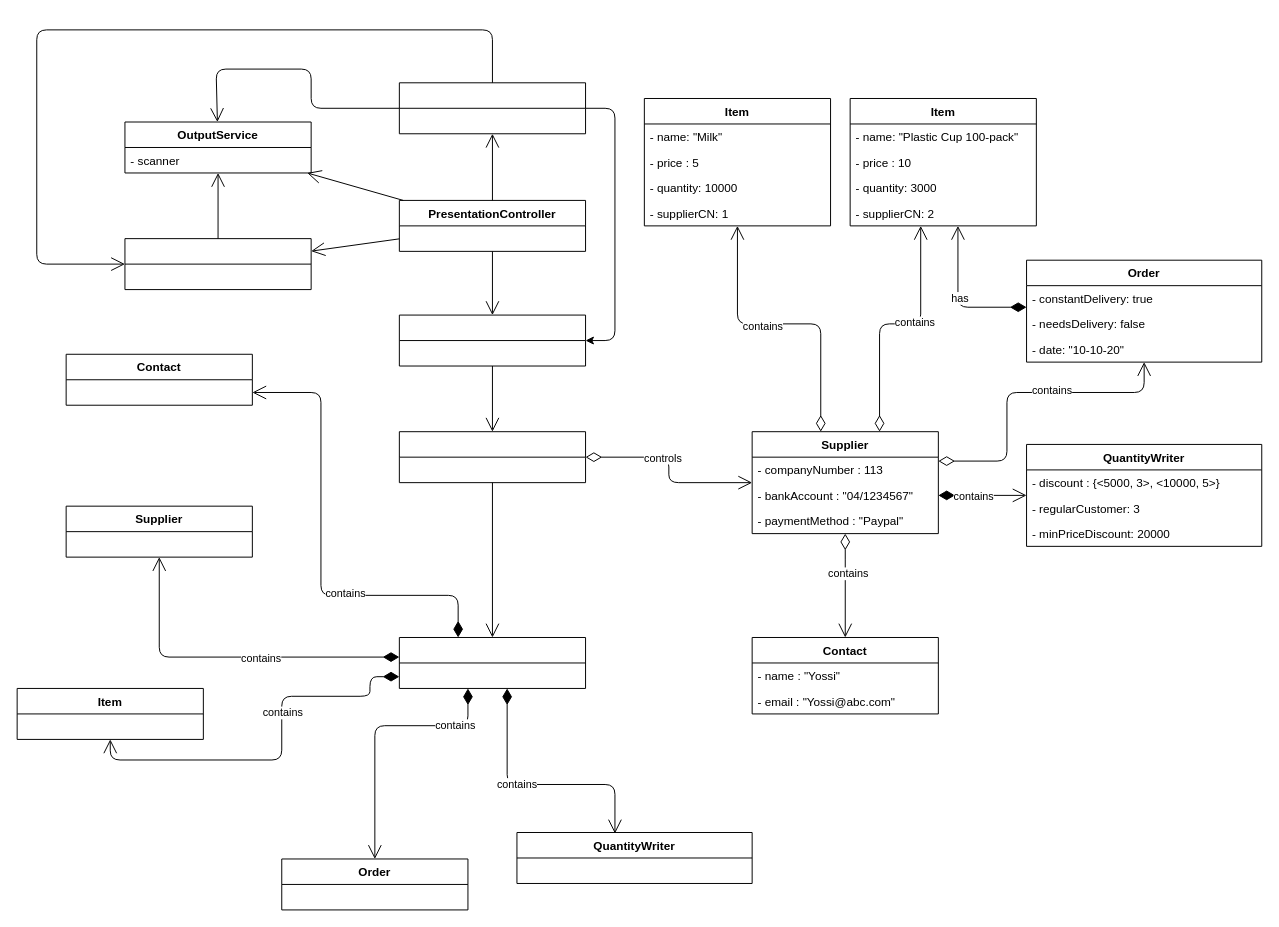
The diagram is 1279 pixels wide and 927 high, and some of its shapes have lost their labels. Each missing label, with the box of its shape:
DataController: (398, 637, 586, 688)
InputService: (124, 238, 311, 290)
PresentationHandler: (398, 82, 586, 134)
ServiceController: (398, 314, 586, 366)
SupplierController: (398, 431, 586, 483)
